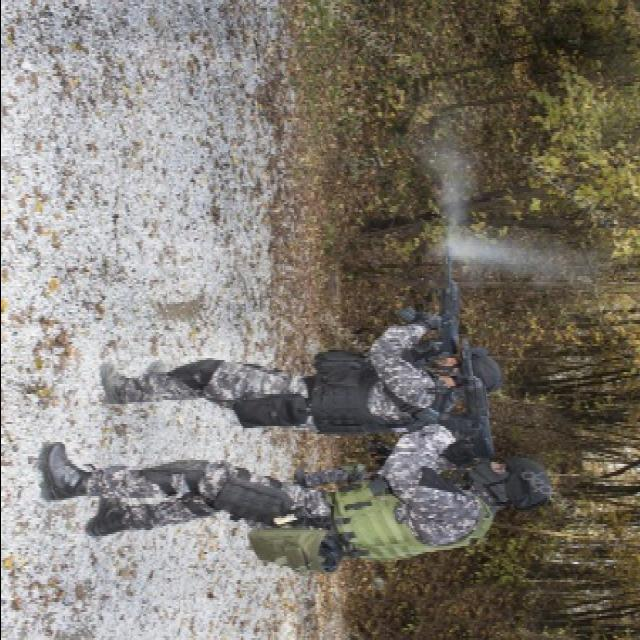rifle: (392, 243, 466, 369), (439, 337, 496, 473)
